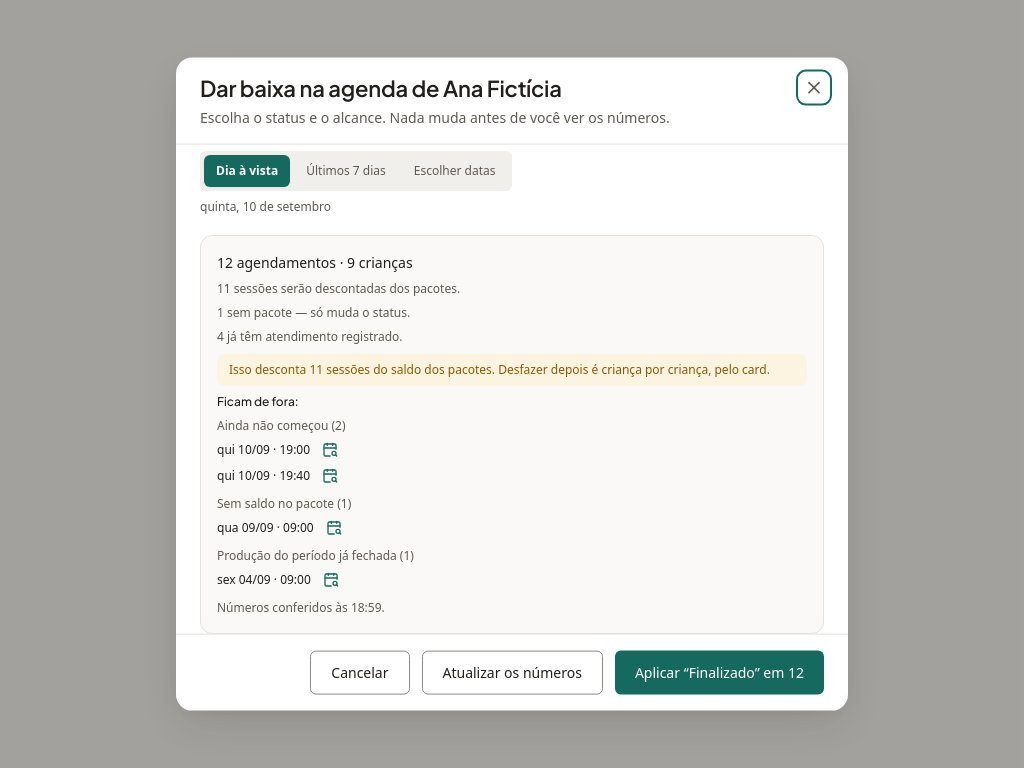
BaixaEmLote — a prévia É a confirmação › deve rolar DE NOVO quando a prévia nova chega pelo 409 previa_desatualizada
The width and height of the screenshot is (1024, 768).
(page scrolled)
Click the button "Aplicar “Finalizado” em 12": (719, 672) [615,650,824,694]
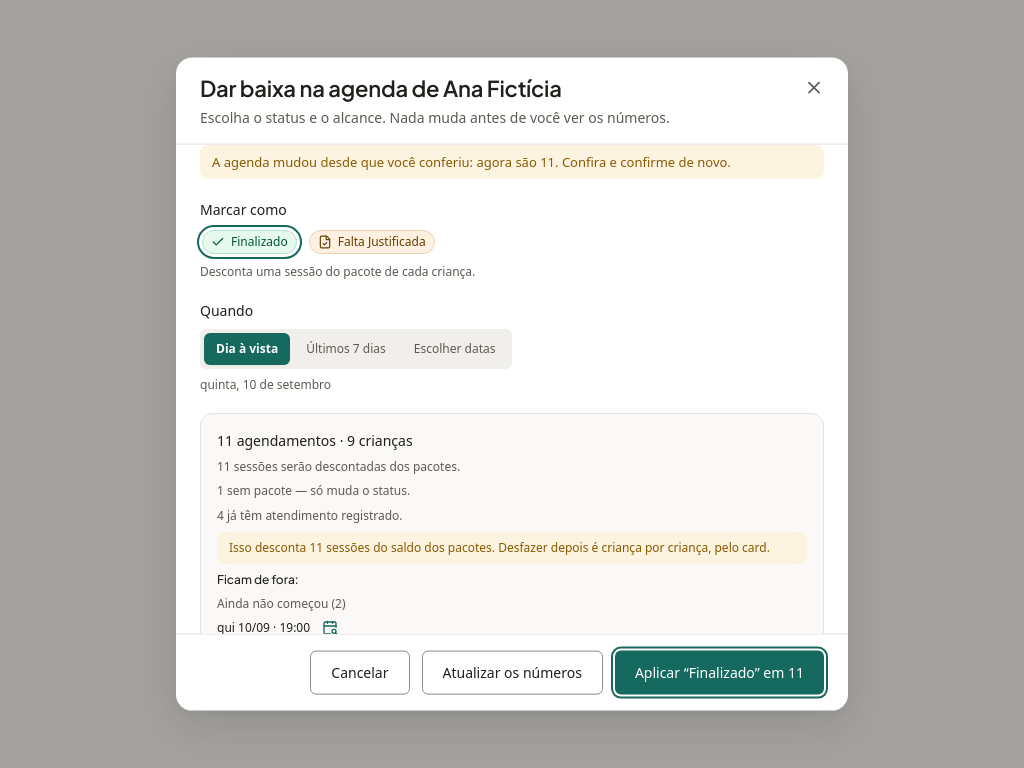
Check: the button "Aplicar “Finalizado” em 11" is shown, box [615,650,824,694]
